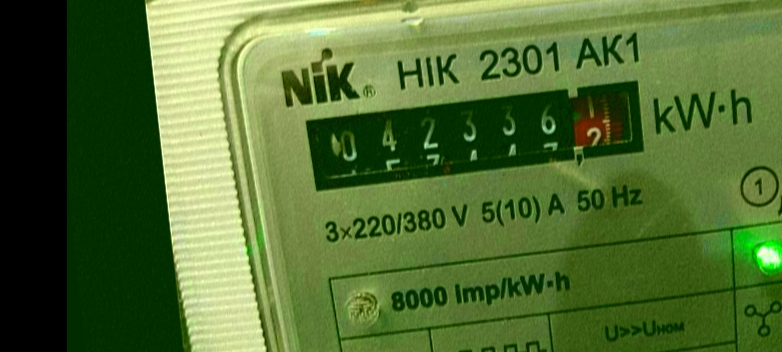0: (336, 127, 360, 164)
1: (582, 92, 598, 122)
2: (416, 114, 440, 152), (583, 125, 604, 148)
3: (457, 106, 480, 146), (495, 102, 518, 140)
4: (376, 116, 399, 155)
6: (534, 100, 559, 137)
screen: (296, 70, 656, 201)
